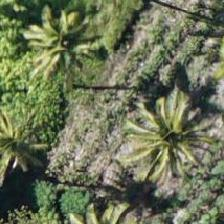coconut_tree: (19, 0, 109, 90), (122, 89, 212, 179)
